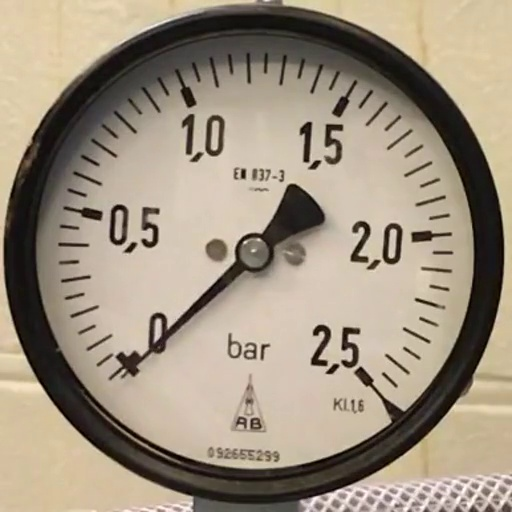base: (234, 233, 272, 274)
circle_plate: (35, 35, 470, 465)
maximum: (354, 365, 374, 387)
minimum: (115, 349, 140, 379)
number: (350, 219, 404, 270), (308, 322, 361, 373), (107, 202, 161, 252), (297, 119, 345, 169), (179, 111, 225, 162), (147, 310, 169, 355)
tip: (120, 371, 128, 381)
